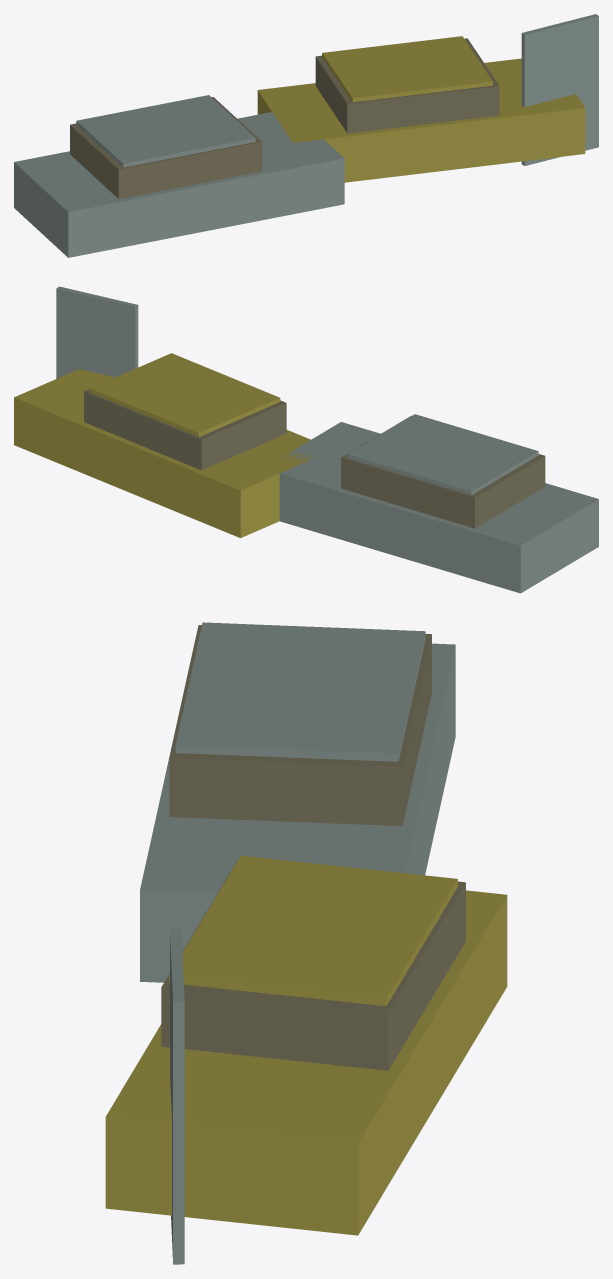
File: SM_BarricadaCivil_v0_Coches_e1_Danado_LOD1.fbx
3 renders of one model, top to bottom at view 1: azimuth 30°, elevation 25°; view 2: azimuth 150°, elevation 25°; view 3: azimuth 270°, elevation 25°, orthographic. The views are drawn at different scales.
Parts seen in each view (by area): view 1: SM_barricada_civil_v1_LOD1; view 2: SM_barricada_civil_v1_LOD1; view 3: SM_barricada_civil_v1_LOD1.
Boxes of the visible parts, bbox=[...] form: SM_barricada_civil_v1_LOD1: bbox=[14, 14, 598, 257]; SM_barricada_civil_v1_LOD1: bbox=[14, 286, 598, 593]; SM_barricada_civil_v1_LOD1: bbox=[105, 622, 507, 1264].
Size of the model in its own units: 8.38 by 2 by 2.78.
